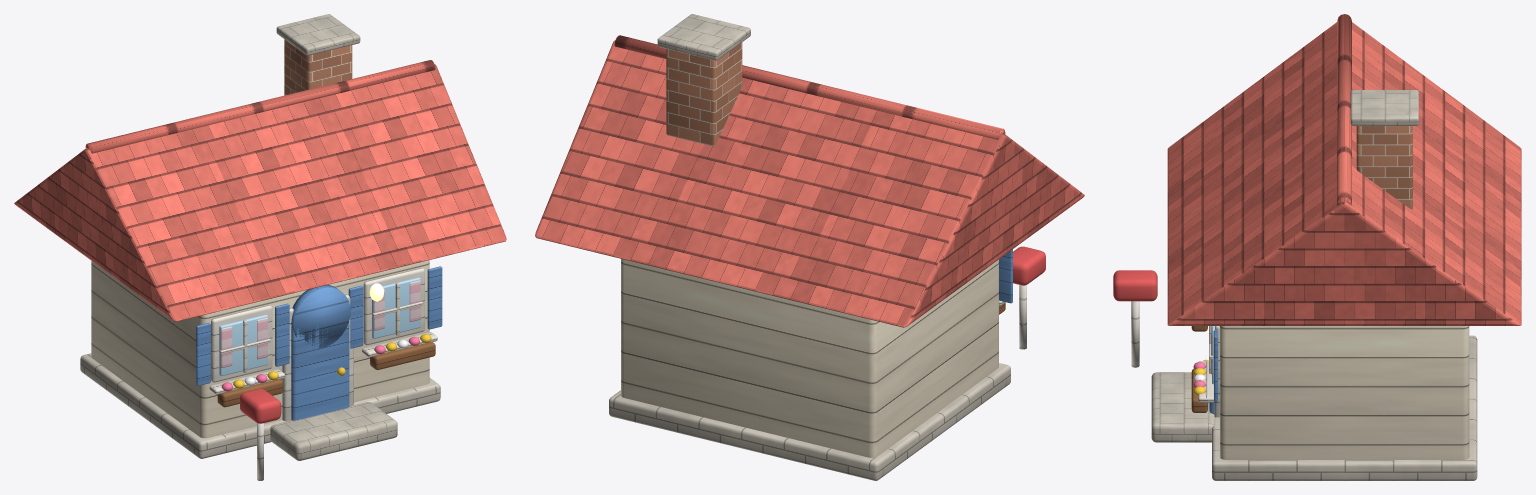
The model's file is house_player.glb.
The picture shows the model from 3 angles, left to right: view 1: azimuth 30°, elevation 25°; view 2: azimuth 150°, elevation 25°; view 3: azimuth 270°, elevation 25°; orthographic projection. The views are drawn at different scales.
Parts seen in each view (by area): view 1: house_player; view 2: house_player; view 3: house_player.
Boxes of the visible parts, left/top/right/bottom form: house_player: left=14, top=14, right=506, bottom=480; house_player: left=535, top=14, right=1084, bottom=480; house_player: left=1113, top=14, right=1521, bottom=480.
Bounding box in the file's own units: 5.53 × 4.87 × 5.08.
15 materials, 8 textured.
